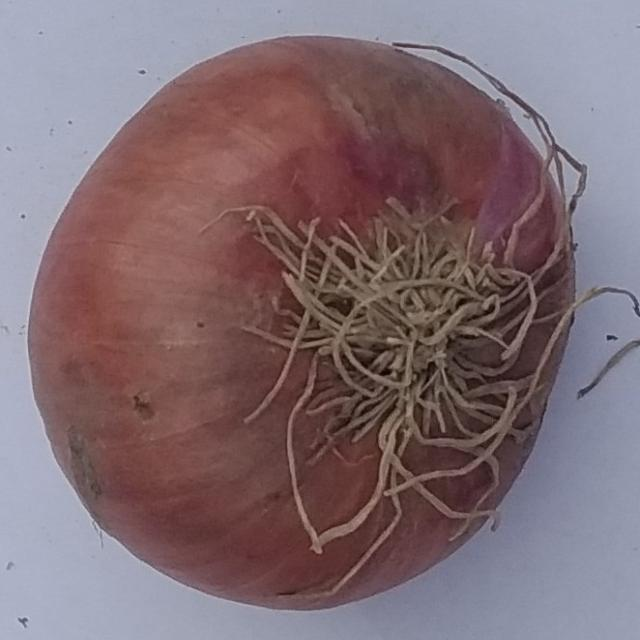onion: (24, 32, 640, 614)
